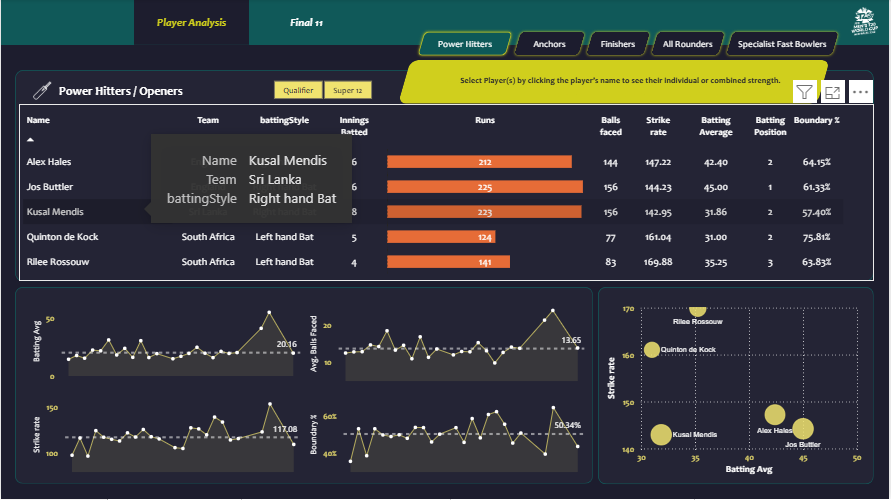

Layout of this report page (visuals, bound fields, positions):
{"tool":"powerbi","page":{"name":"Project - Sportan","canvas":[1280,720],"ordinal":0},"visuals":[{"type":"shape","box":[0,66,1280,654],"z":0},{"type":"card","fields":{"Values":["Key_Measures.Strike rate"]},"box":[867,89,93,60],"z":0,"group":"g2"},{"type":"group","id":"g1","title":"Group 2","box":[83.8,116.2,260,31.2],"z":0,"group":"g3"},{"type":"shape","box":[83.8,116.2,260,31.2],"z":0,"group":"g1"},{"type":"card","fields":{"Values":["Key_Measures.Bat Avg"]},"box":[768,89,92,60],"z":1000,"group":"g2"},{"type":"image","box":[38,114,44,36],"z":1000,"group":"g3"},{"type":"shape","box":[20,414.4,832.2,283.3],"z":1000},{"type":"actionButton","box":[734,42.6,111,42],"z":2000},{"type":"card","fields":{"Values":["Key_Measures.Boundary %"]},"box":[1063.6,92.3,110,56.7],"z":2000,"group":"g2"},{"type":"actionButton","box":[596,42.6,144,42],"z":3000},{"type":"card","fields":{"Values":["Key_Measures.Avergate Balls Faced"]},"box":[966,89,101,60],"z":3000,"group":"g2"},{"type":"actionButton","box":[838,42.6,101,42],"z":4000},{"type":"actionButton","box":[932,42.6,115,42],"z":5000},{"type":"actionButton","box":[1039,42.6,171,42],"z":6000},{"type":"image","box":[1220,3,48,59],"z":7000},{"type":"areaChart","fields":{"Category":["dim_match_summary.Match_Date.Variation.Date Hierarchy.Day"],"Y":["Key_Measures.Boundary %"]},"box":[438.8,560,406.2,126.2],"z":9000},{"type":"shape","box":[860,414,397,284],"z":10000},{"type":"areaChart","fields":{"Category":["dim_match_summary.Match_Date.Variation.Date Hierarchy.Day"],"Y":["Key_Measures.Avergate Balls Faced"]},"box":[438.8,428.8,406.2,126.2],"z":11000},{"type":"areaChart","fields":{"Category":["dim_match_summary.Match_Date.Variation.Date Hierarchy.Day"],"Y":["Key_Measures.Bat Avg"]},"box":[40,428.9,395.6,126.7],"z":12000},{"type":"areaChart","fields":{"Category":["dim_match_summary.Match_Date.Variation.Date Hierarchy.Day"],"Y":["Key_Measures.Strike rate"]},"box":[40,560,396.2,126.2],"z":13000},{"type":"shape","box":[20,102.2,1236.7,304.4],"z":14000},{"type":"slicer","fields":{"Values":["dim_match_summary.stage"]},"box":[366.7,111.1,191.1,38.9],"z":15000},{"type":"shape","box":[572,88,622,63],"z":16000},{"type":"shape","box":[591,103,173,34],"z":17000},{"type":"group","id":"g2","title":"Combined Perfoamce Metrices","box":[768,89,405.6,60],"z":18000},{"type":"group","id":"g3","title":"Group 1","box":[38,114,305.8,36],"z":19000},{"type":"tableEx","fields":{"Values":["dim_player.name","dim_player.team","dim_player.Batting Style","Key_Measures.Total Matches","Key_Measures.Total Runs","Key_Measures.total balls faced","Key_Measures.Strike rate","Key_Measures.Bat Avg","Key_Measures.Batting Position","Key_Measures.Boundary %"]},"box":[26,151,1231,255],"z":20000},{"type":"scatterChart","fields":{"Y":["Key_Measures.Strike rate"],"Category":["dim_player.name"],"X":["Key_Measures.Bat Avg"],"Size":["Key_Measures.Total Runs"]},"box":[866.7,430,377.8,258.9],"z":21000},{"type":"actionButton","title":"Button Player Ana selected","box":[191,0,166,66],"z":22000},{"type":"actionButton","title":"Button Player Ana selected","box":[357,0,166,66],"z":23000},{"type":"shape","box":[612,100,560,36],"z":24000}]}

Visuals, with their boxes in screenshot pixels (x1, y1, x2, y2), scaled from the page's 1280x720 canvas onto the 891x500 screenshot:
shape: box(0, 46, 890, 499)
card - Key_Measures.Strike rate: box(604, 62, 668, 103)
"Group 2" group: box(58, 81, 239, 102)
shape: box(58, 81, 239, 102)
card - Key_Measures.Bat Avg: box(535, 62, 599, 103)
image: box(26, 79, 57, 104)
shape: box(14, 288, 593, 485)
actionButton: box(511, 30, 588, 59)
card - Key_Measures.Boundary %: box(740, 64, 817, 103)
actionButton: box(415, 30, 515, 59)
card - Key_Measures.Avergate Balls Faced: box(672, 62, 743, 103)
actionButton: box(583, 30, 654, 59)
actionButton: box(649, 30, 729, 59)
actionButton: box(723, 30, 842, 59)
image: box(849, 2, 883, 43)
areaChart - dim_match_summary.Match_Date.Variation.Date Hierarchy.Day x Key_Measures.Boundary %: box(305, 389, 588, 477)
shape: box(599, 288, 875, 485)
areaChart - dim_match_summary.Match_Date.Variation.Date Hierarchy.Day x Key_Measures.Avergate Balls Faced: box(305, 298, 588, 385)
areaChart - dim_match_summary.Match_Date.Variation.Date Hierarchy.Day x Key_Measures.Bat Avg: box(28, 298, 303, 386)
areaChart - dim_match_summary.Match_Date.Variation.Date Hierarchy.Day x Key_Measures.Strike rate: box(28, 389, 304, 477)
shape: box(14, 71, 875, 282)
slicer - dim_match_summary.stage: box(255, 77, 388, 104)
shape: box(398, 61, 831, 105)
shape: box(411, 72, 532, 95)
"Combined Perfoamce Metrices" group: box(535, 62, 817, 103)
"Group 1" group: box(26, 79, 239, 104)
tableEx - dim_player.name x dim_player.team: box(18, 105, 875, 282)
scatterChart - Key_Measures.Strike rate x dim_player.name: box(603, 299, 866, 478)
"Button Player Ana selected" actionButton: box(133, 0, 249, 46)
"Button Player Ana selected" actionButton: box(249, 0, 364, 46)
shape: box(426, 69, 816, 94)
